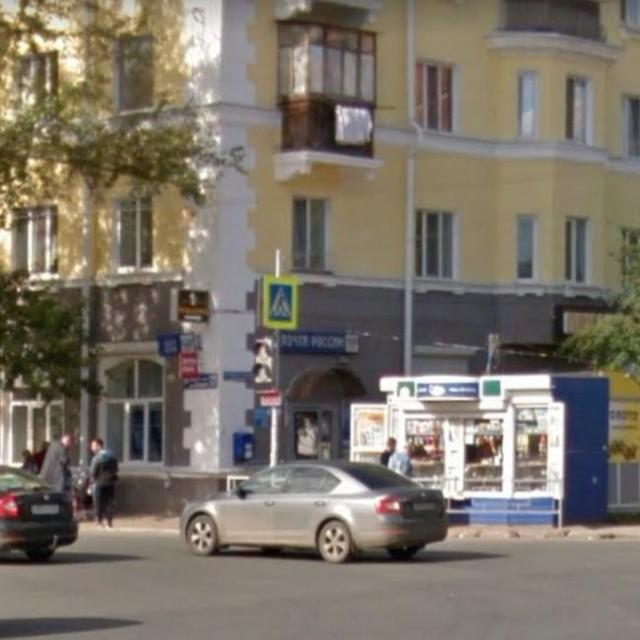Przejscie dla pieszych: (257, 271, 303, 331)
